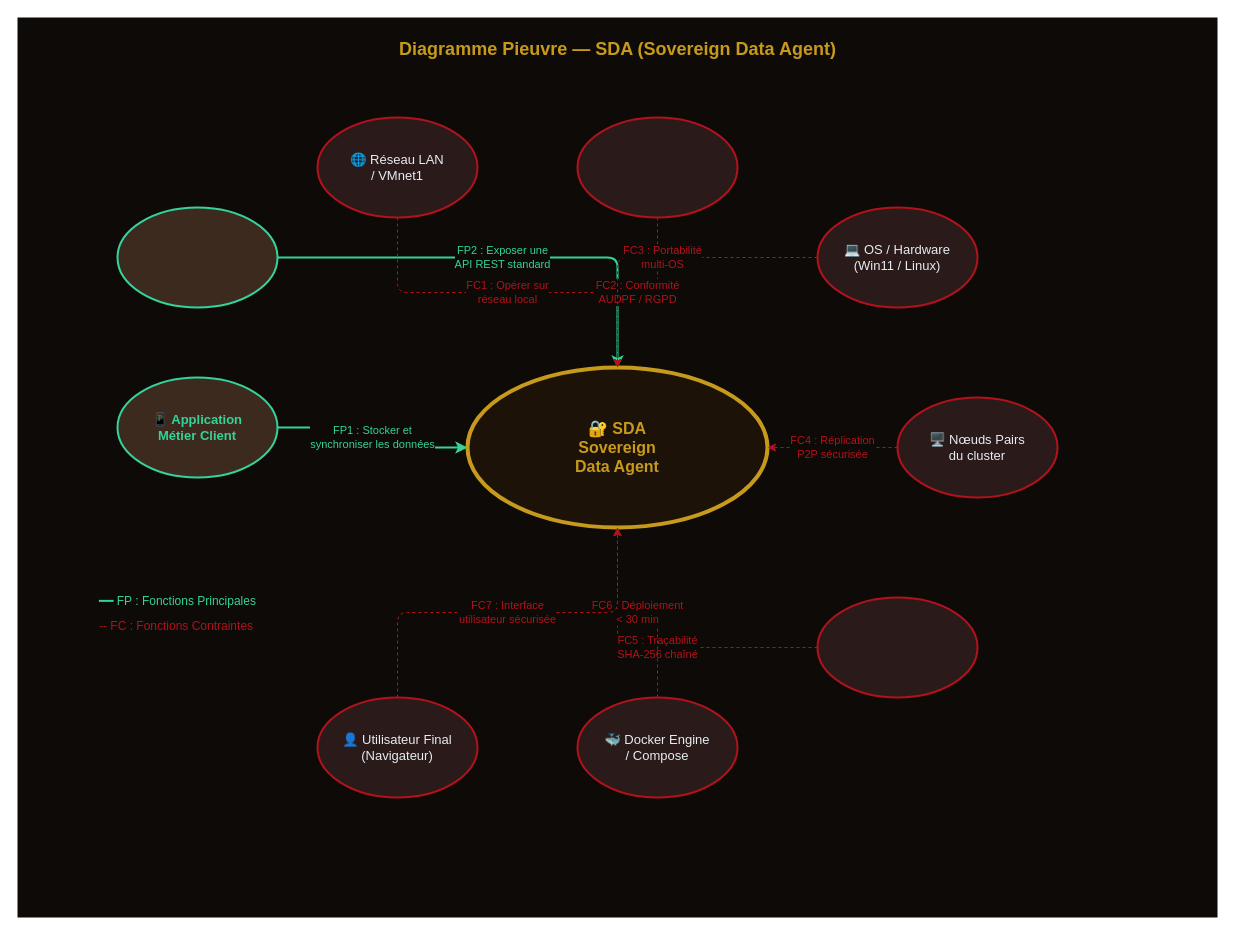
Some shapes in this 1234 by 934 pixel diagram are drawn without their labels. Each missing label, with the centre of its shape:
⚖️ Règlementation AUDPF / RGPD: the point at 657,167
📋 Auditeur / Compliance: the point at 897,647
🛠️ Administrateur / DevOps: the point at 197,257
